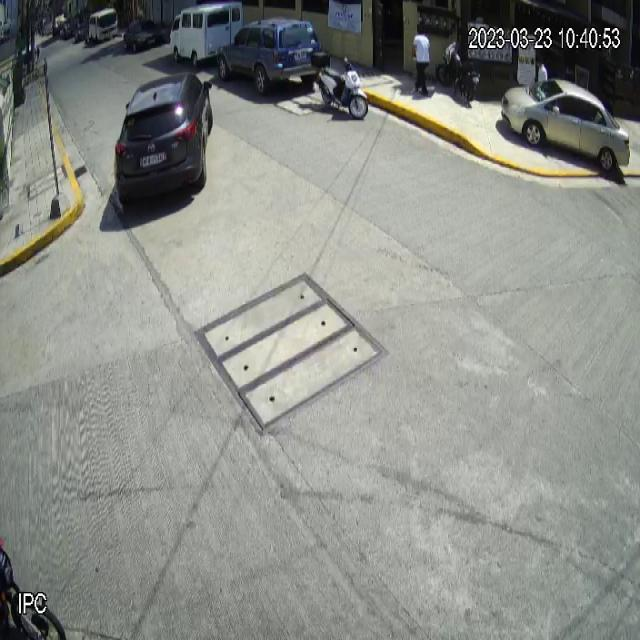Car: (114, 70, 214, 214), (501, 76, 631, 172), (217, 19, 321, 95)
Motorcycle: (309, 50, 369, 120)
Van: (170, 2, 243, 67)
